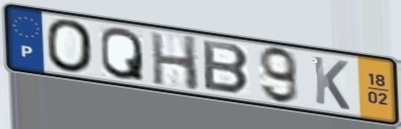9: (257, 44, 301, 107)
B: (201, 38, 253, 97)
H: (147, 30, 202, 94)
K: (310, 53, 352, 112)
O: (44, 17, 97, 75)
Q: (99, 26, 147, 83)
